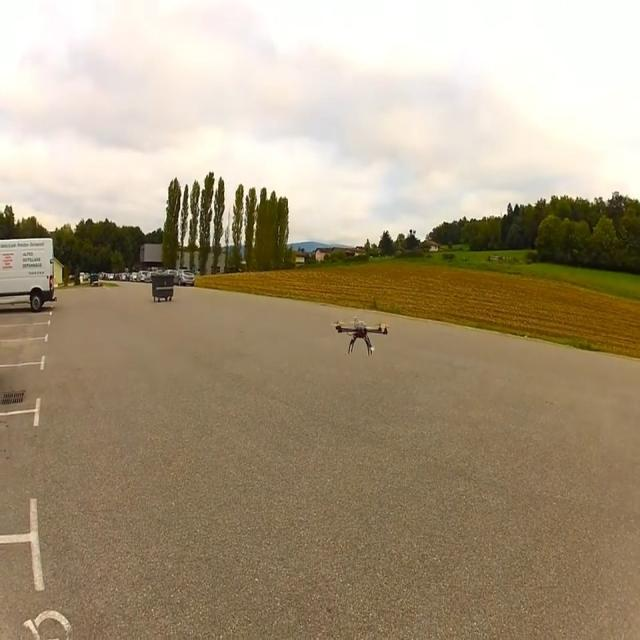drone: (330, 316, 389, 356)
